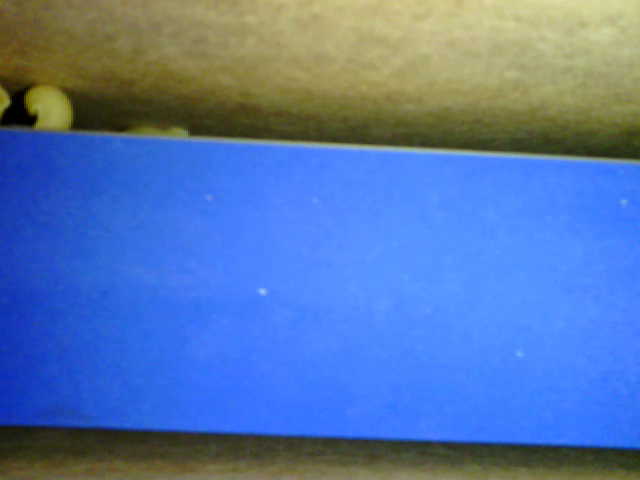elbow: (25, 85, 75, 136)
